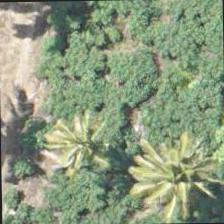Kelapa_Sawit: (28, 100, 119, 192), (124, 137, 216, 223)
